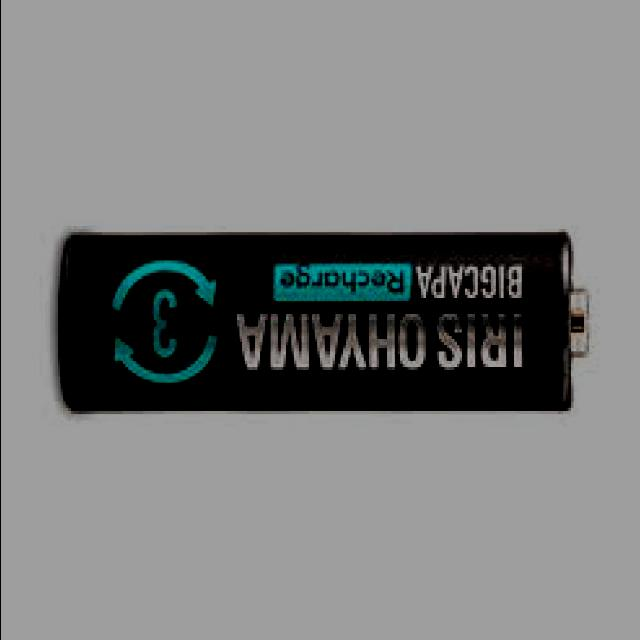AA: (54, 225, 592, 421)
